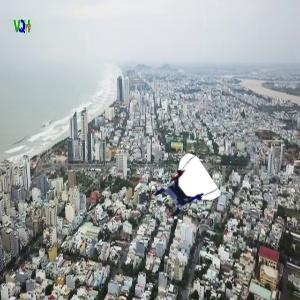drone: (154, 161, 215, 222)
